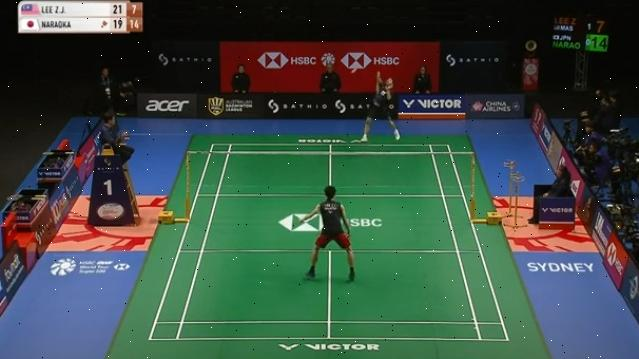Shuttlecock: (351, 66, 361, 76)
